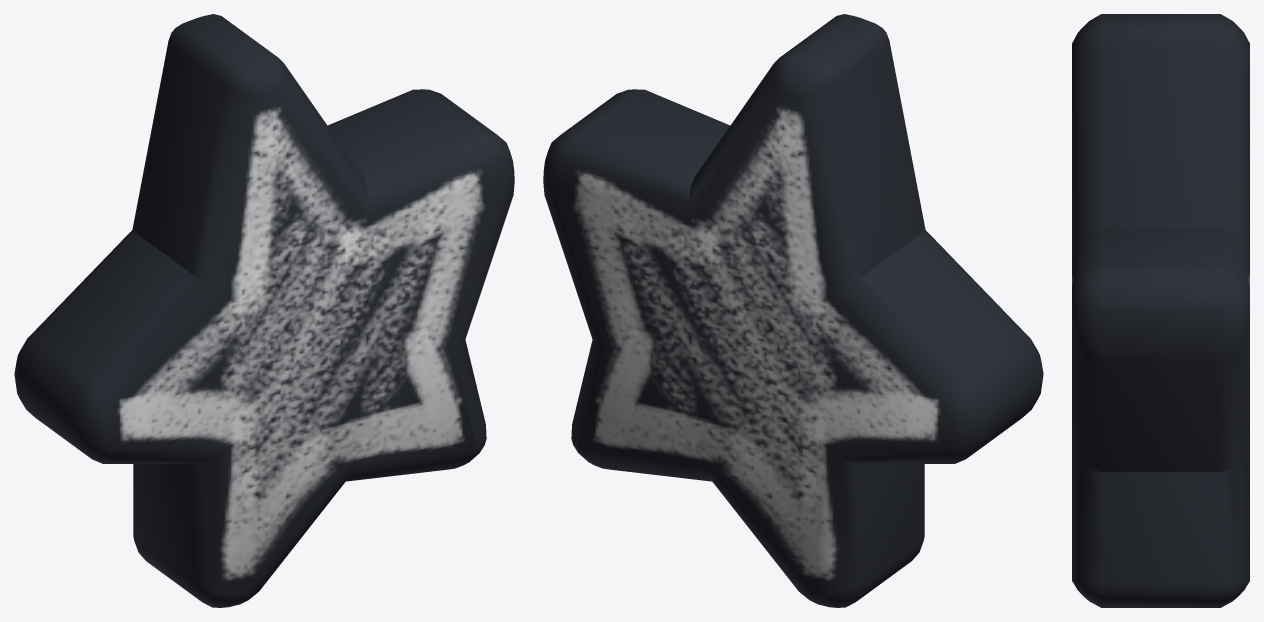
Rendered from Star3.fbx.
The picture shows the model from 3 angles, left to right: view 1: azimuth 30°, elevation 25°; view 2: azimuth 150°, elevation 25°; view 3: azimuth 270°, elevation 25°; orthographic projection. The views are drawn at different scales.
Visible parts, largest first — view 1: m_Star3; view 2: m_Star3; view 3: m_Star3.
Part boxes in pixels (x1,y1,x2,y2): m_Star3: (14,14,514,607); m_Star3: (543,14,1043,607); m_Star3: (1072,14,1249,607).
Bounding box in the file's own units: 0.3004 × 0.3539 × 0.1.
